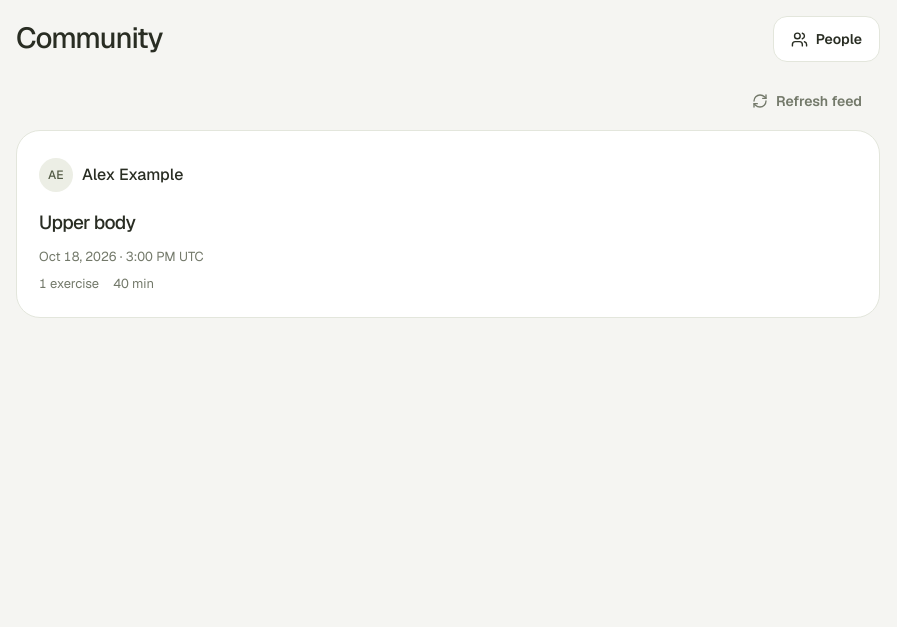
Test case: CommunityScreen › links a feed name to profile and the workout area to read-only expanded set detail
The width and height of the screenshot is (897, 627).
Click the button "AE Alex Example".
click(111, 175)  # box x1=39 y1=153 x2=183 y2=197
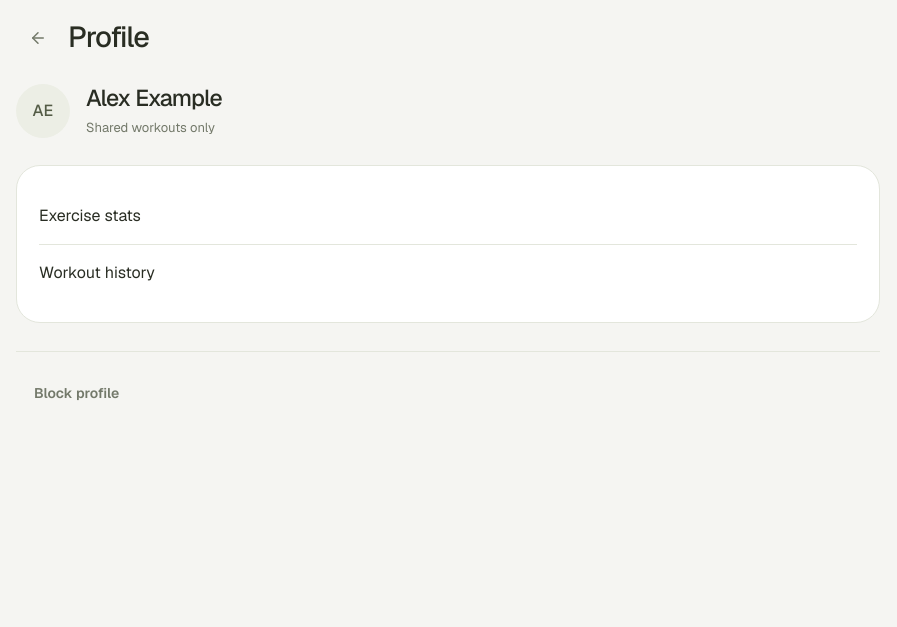
Check: the text "Shared workouts only" is shown, box x1=86 y1=118 x2=222 y2=138
Click the button named "Back to previous view".
click(38, 38)  # box x1=16 y1=16 x2=60 y2=60
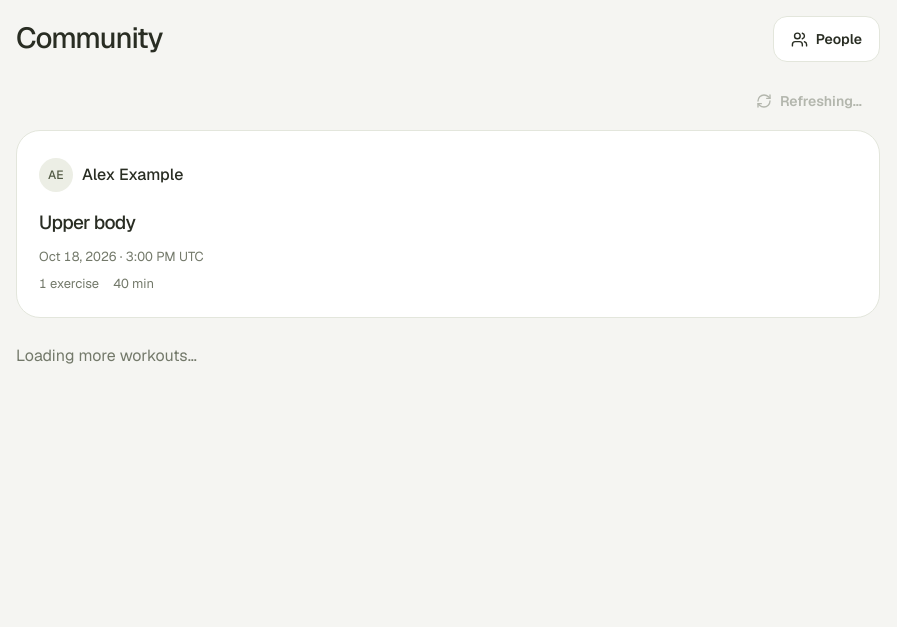
Click the button with aria-label "View Upper body workout by Alex Example".
click(87, 222)  # box x1=39 y1=211 x2=857 y2=295
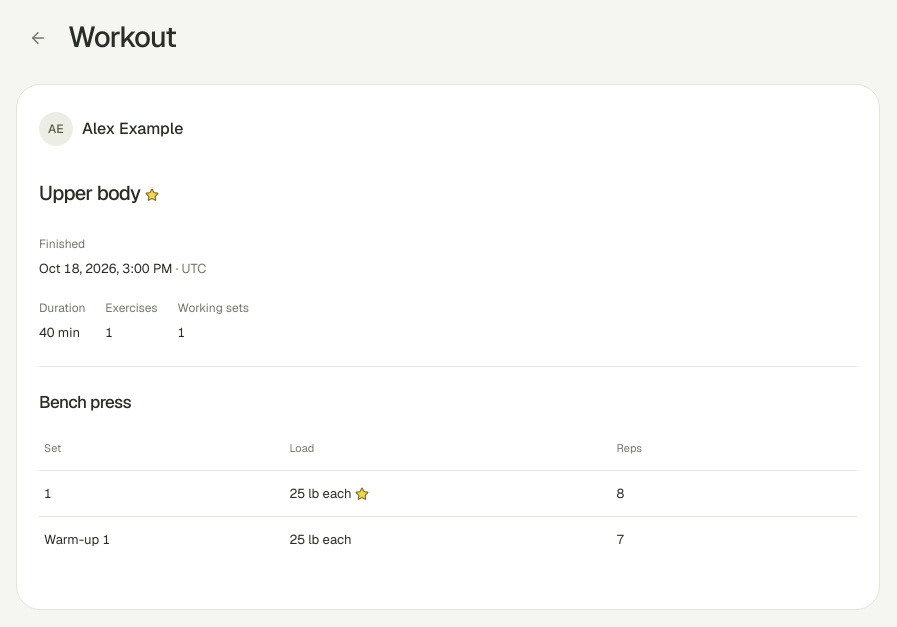
Check: the number of rows is 3, box x1=39 y1=427 x2=857 y2=470; x1=39 y1=470 x2=857 y2=517; x1=39 y1=517 x2=857 y2=563
Check: the text "25 lb each" is shown 2 times, box x1=284 y1=470 x2=612 y2=517; x1=284 y1=517 x2=612 y2=563
Check: the text "Warm-up 1" is shown, box x1=39 y1=517 x2=284 y2=563
